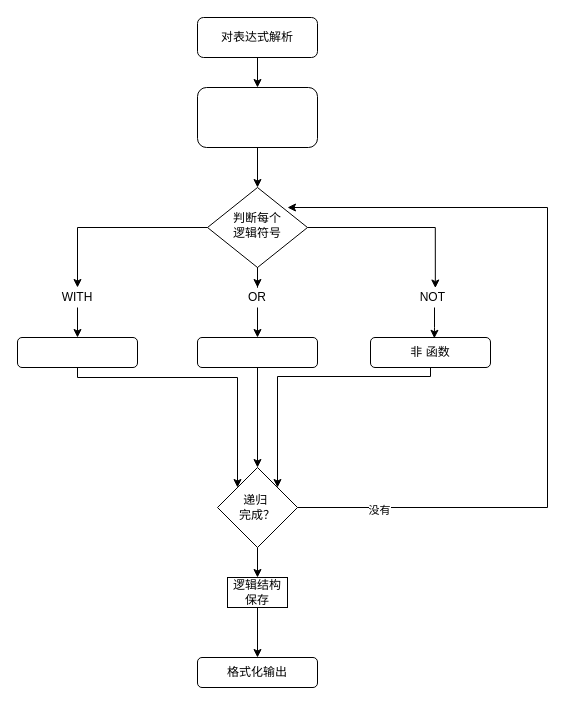
Some shapes in this 573 by 705 pixel diagram are drawn without their labels. The shapes that lost their labels are listed below. From the top down, each one's centre as x and y in pixels, then its label:
(257,117): 遍历每个变量的数值
(77,352): 与 函数
(257,352): 或 函数
